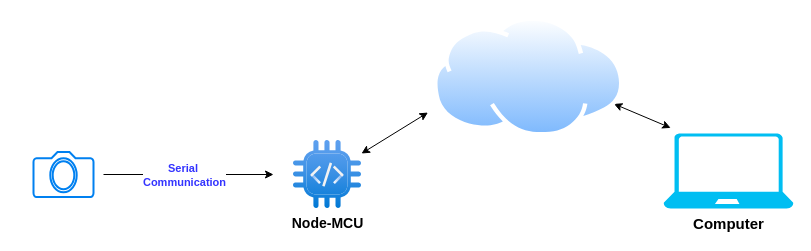
Image size: 811x251. Some labels were removed from this diagram. Each missing label, with the centre of its shape:
ESP32-Camera: the point at 63,174
Local Server: the point at 528,76
